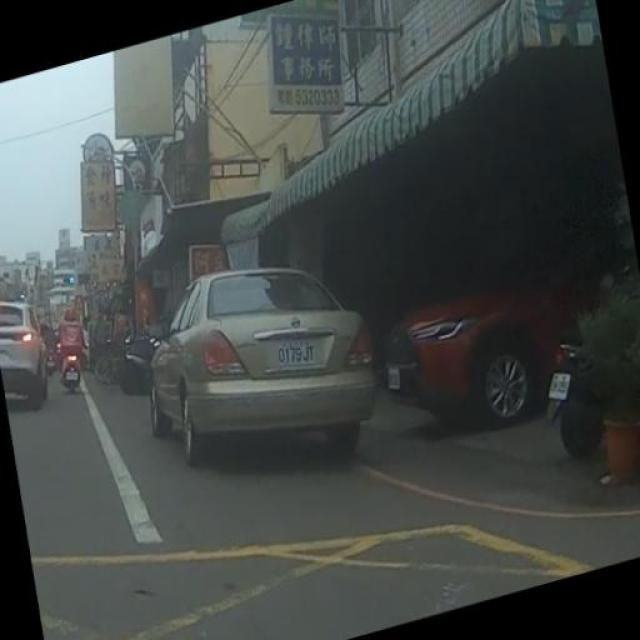illegalparking: (143, 238, 391, 493)
